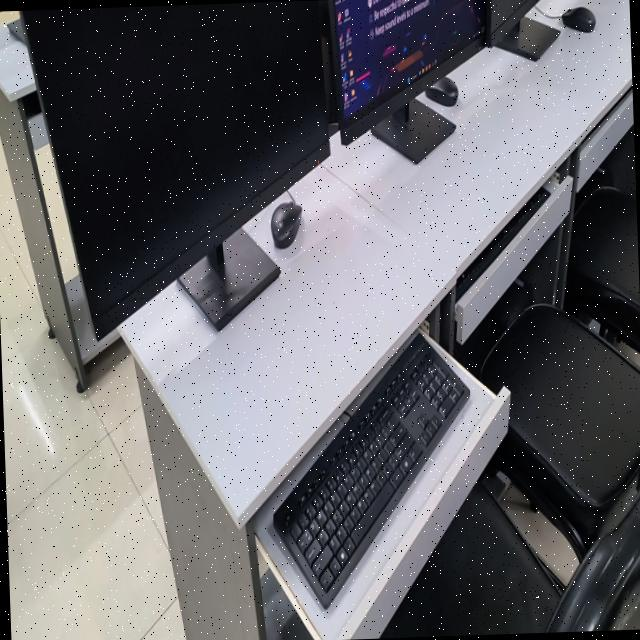Chair: (379, 480, 640, 638), (481, 304, 640, 561), (563, 187, 640, 352)
Keyboard: (273, 335, 468, 607)
Monitor: (21, 0, 329, 336), (330, 0, 486, 143), (485, 0, 539, 45)
Mouse: (270, 199, 301, 248), (425, 76, 458, 106), (561, 7, 595, 32)
